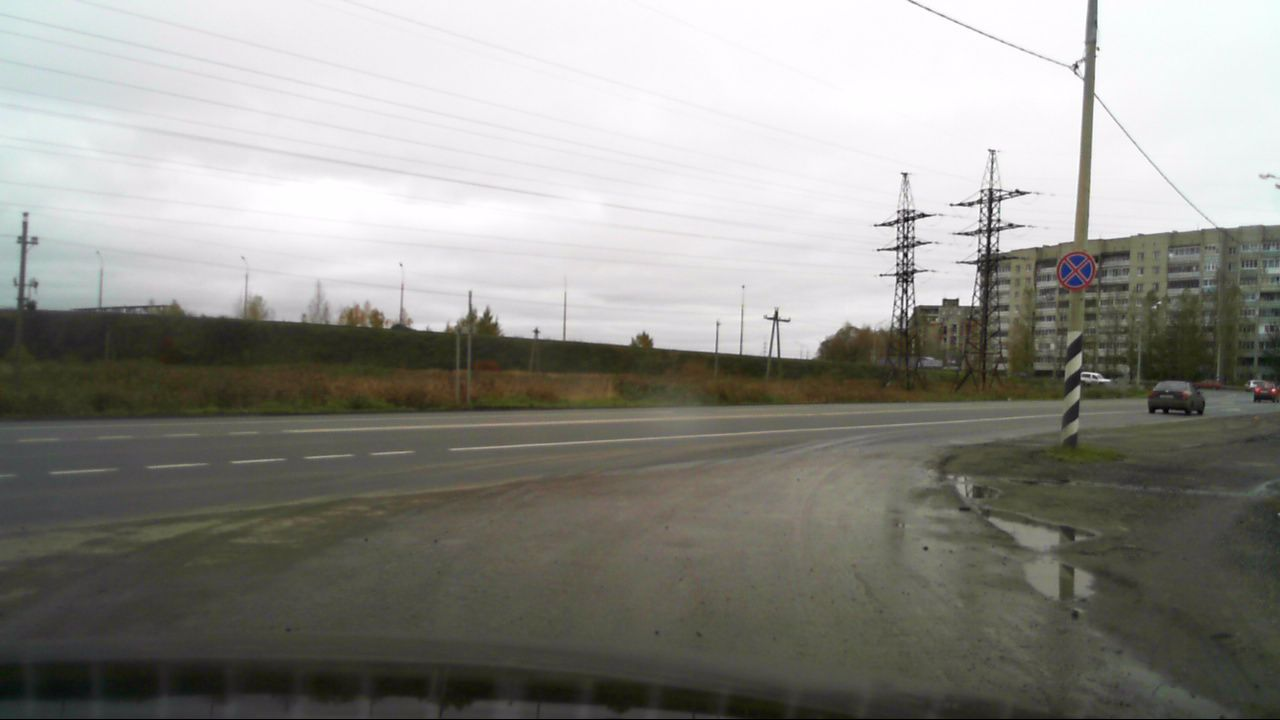No Parking: (1054, 248, 1095, 292)
